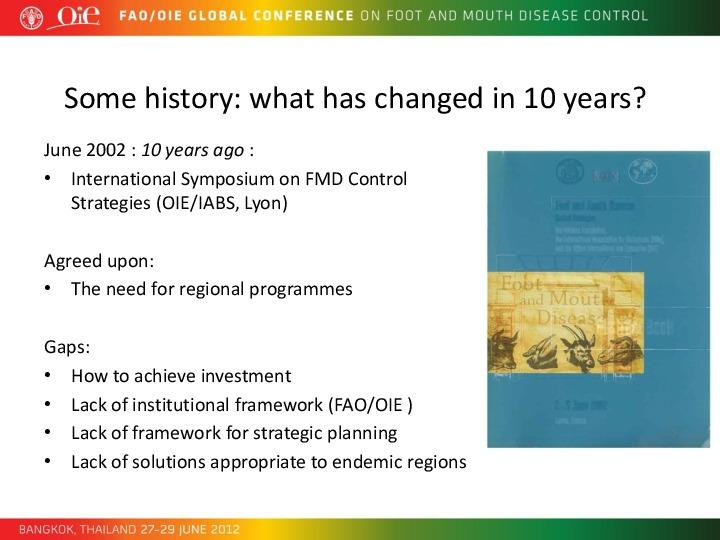paragraph: (23, 134, 485, 492)
subtitle: (48, 70, 656, 127)
title: (108, 1, 654, 37)
